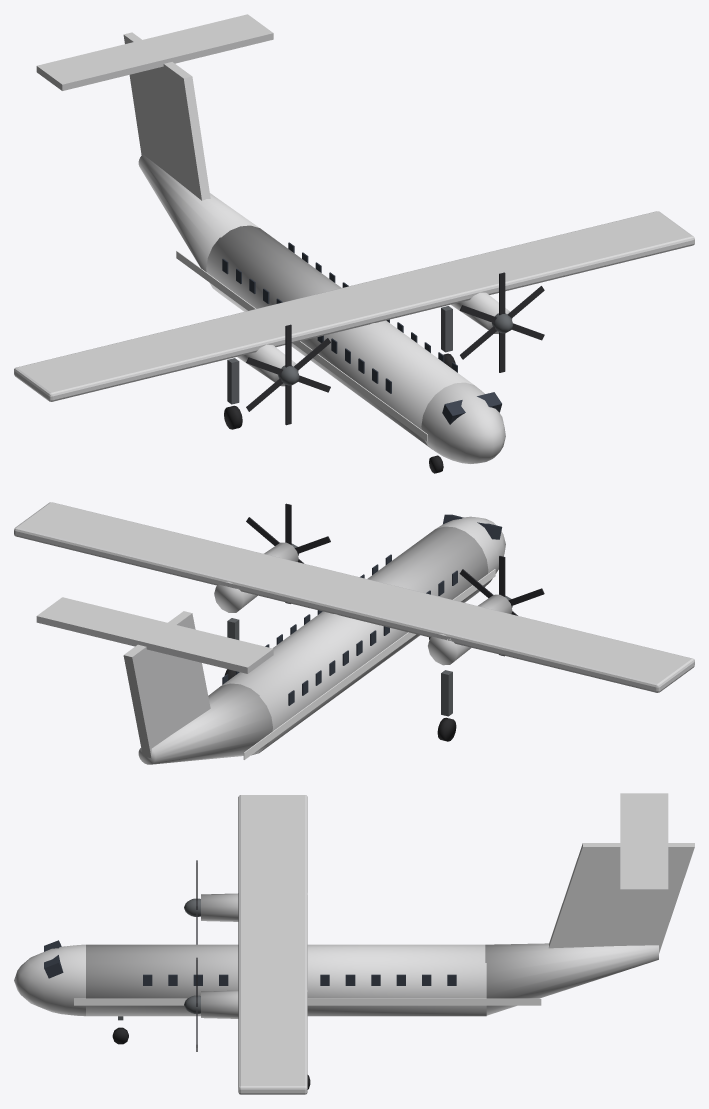
3 views of the same model, one above another, from view 1: azimuth 30°, elevation 25°; view 2: azimuth 150°, elevation 25°; view 3: azimuth 270°, elevation 25° (orthographic). The views are drawn at different scales.
Visible parts, largest first — view 1: plane, Prop1, Prop0; view 2: plane, Prop0, Prop1; view 3: plane.
Part boxes in pixels (bbox=[...]): plane: bbox=[14, 14, 694, 473]; Prop1: bbox=[459, 272, 544, 372]; Prop0: bbox=[246, 324, 330, 425]; plane: bbox=[14, 502, 694, 764]; Prop0: bbox=[459, 556, 544, 656]; Prop1: bbox=[246, 503, 330, 603]; plane: bbox=[14, 793, 694, 1094].
Size of the model in its own units: 5.2 by 1.67 by 5.1.
Materials: 6 (1 with a texture image).
